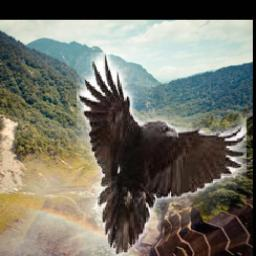Crow: (77, 52, 247, 256)
